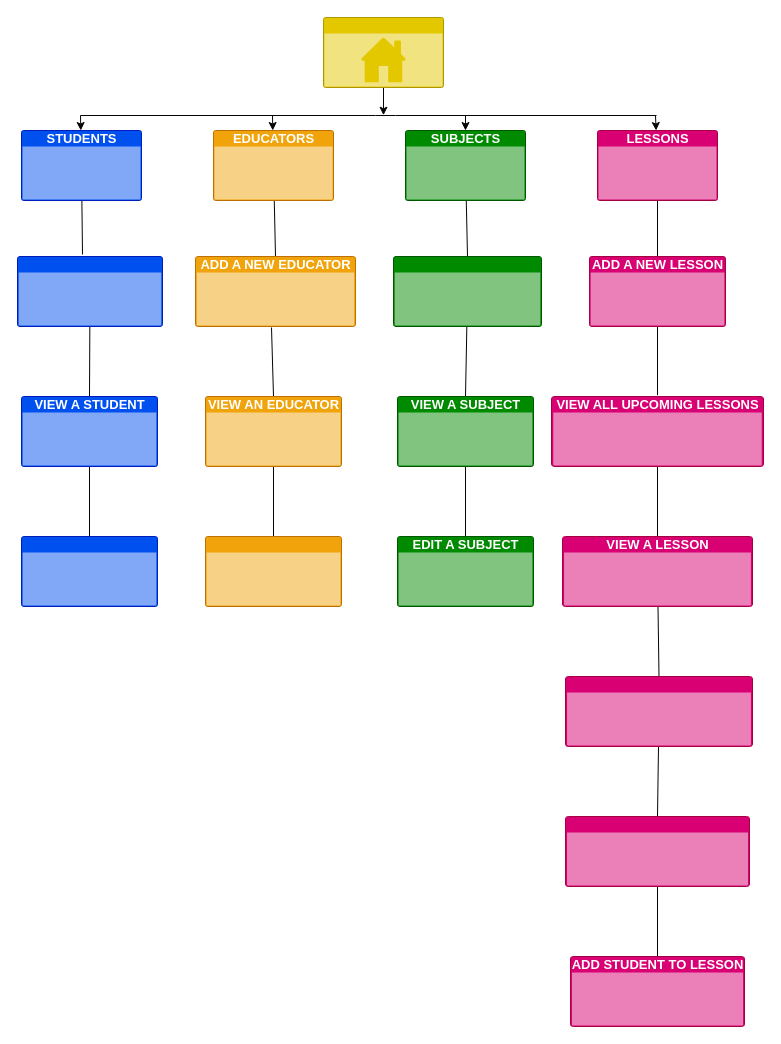
Some shapes in this 781 by 1044 pixel diagram are drawn without their labels. Here are the shapes that lost their labels. From the top down, the centre of each, then its label:
At (383,52): "HOME".
At (89,291): "ADD A NEW STUDENT".
At (467,291): "ADD A NEW SUBJECT".
At (89,571): "EDIT A STUDENT".
At (273,571): "EDIT AN EDUCATOR".
At (658,711): "EDIT A LESSON".
At (657,851): "VIEW STUDENTS IN LESSON".
